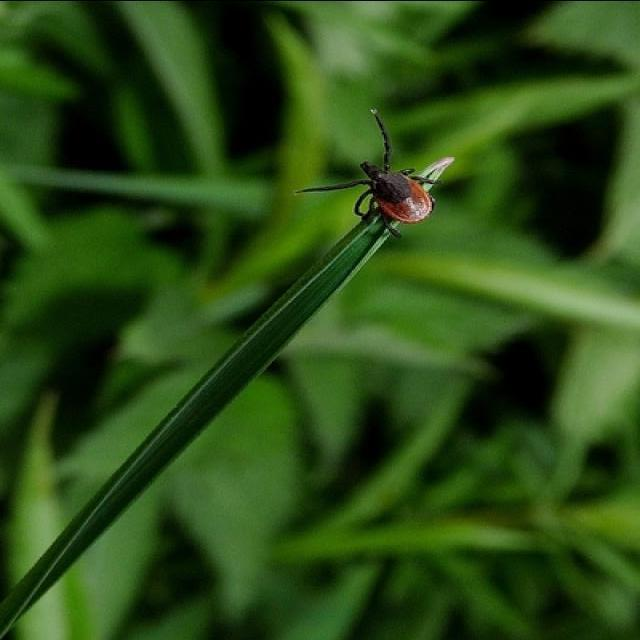Ixodes Ricinus-F: (293, 106, 454, 237)
